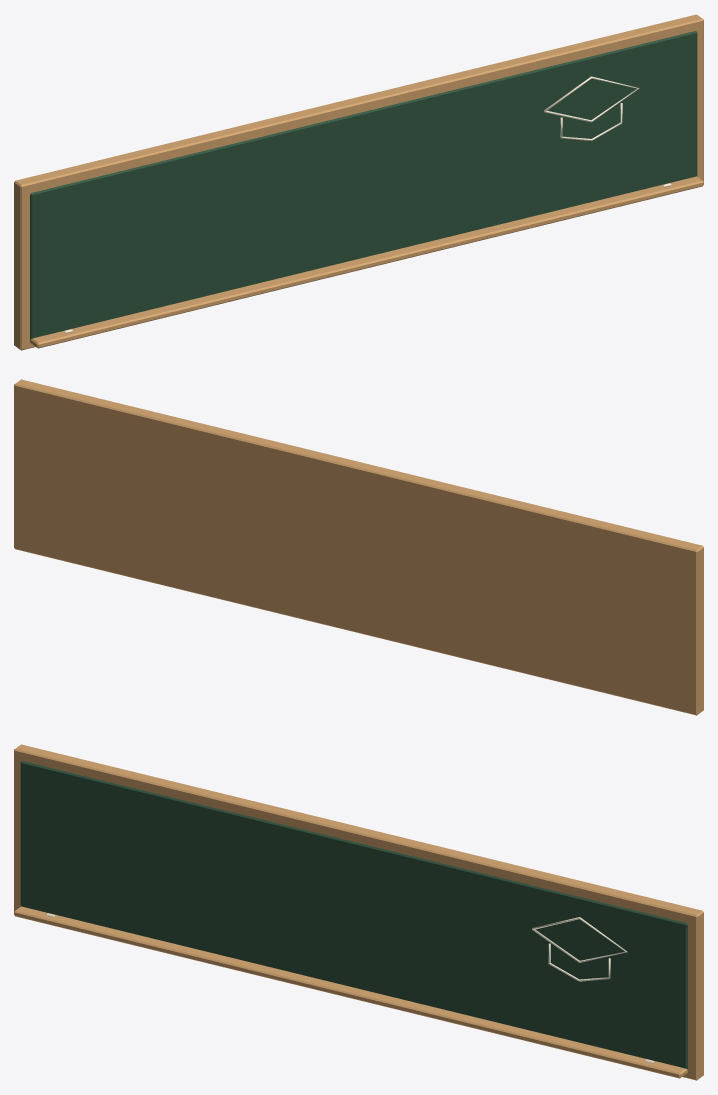
The model's file is chalkboard.glb.
The picture shows the model from 3 angles, top to bottom: view 1: azimuth 30°, elevation 25°; view 2: azimuth 150°, elevation 25°; view 3: azimuth 330°, elevation 25°; orthographic projection.
Parts seen in each view (by area): view 1: chalkboard; view 2: chalkboard; view 3: chalkboard.
Boxes of the visible parts, x1=… form: chalkboard: x1=14, y1=14, x2=703, y2=350; chalkboard: x1=14, y1=379, x2=703, y2=715; chalkboard: x1=14, y1=744, x2=703, y2=1080.
Size of the model in its own units: 8 by 1.85 by 0.32.
